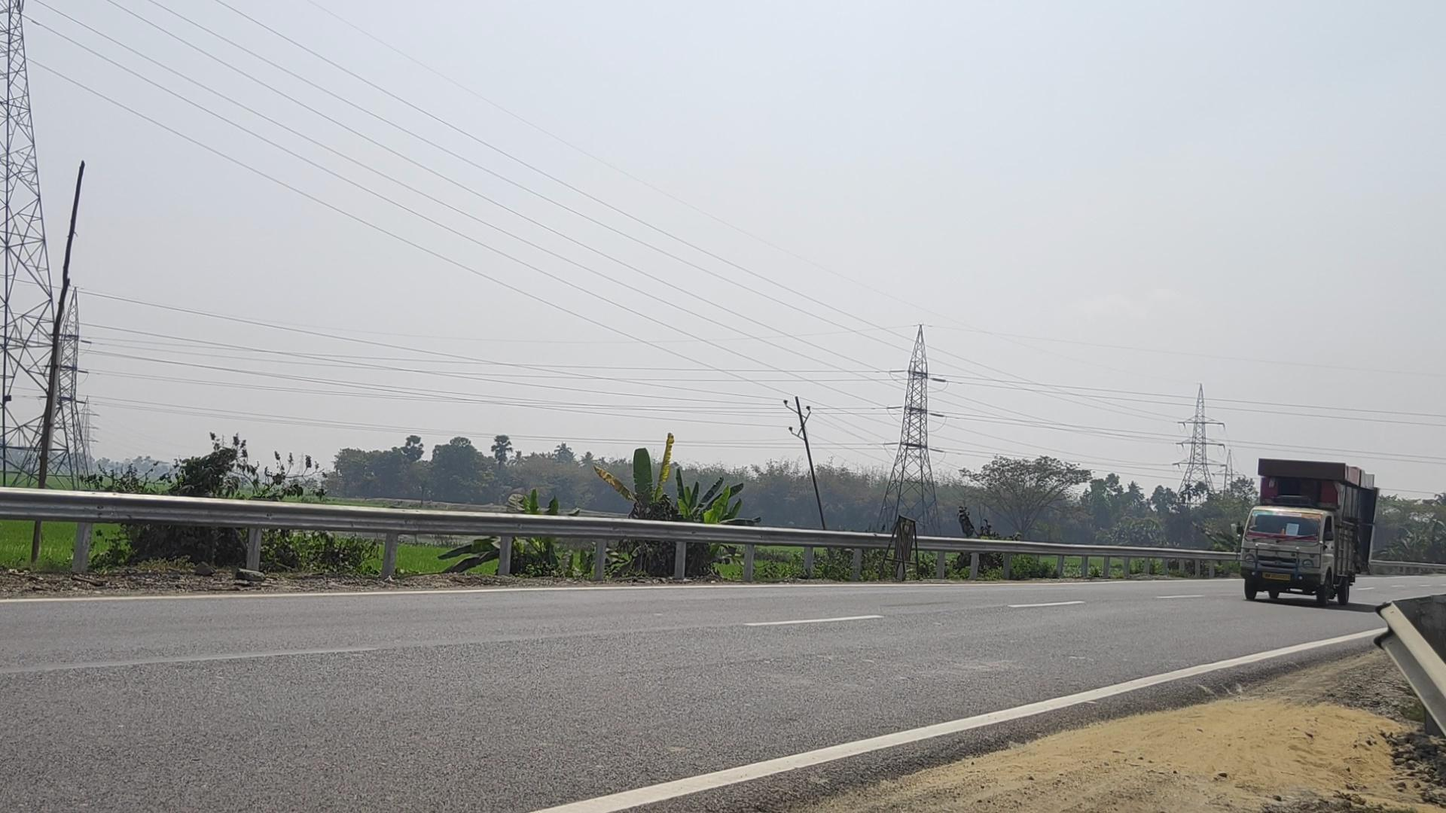van: (1237, 458, 1380, 607)
